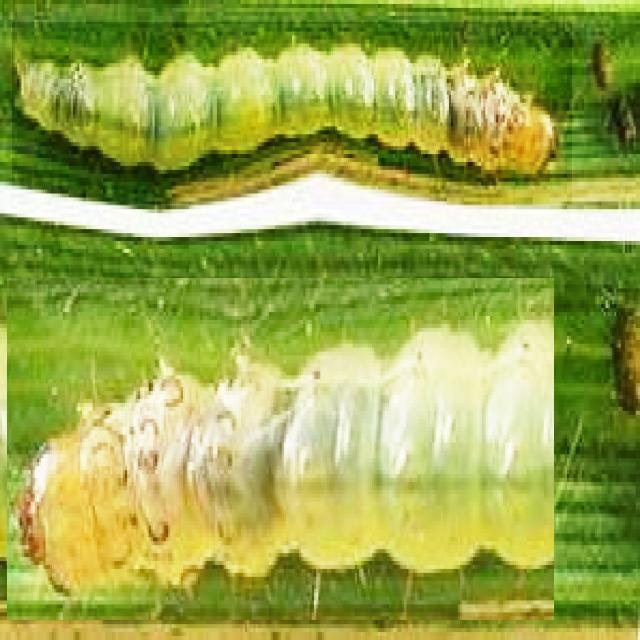leaf-folder: (7, 278, 554, 620), (12, 23, 572, 205)
